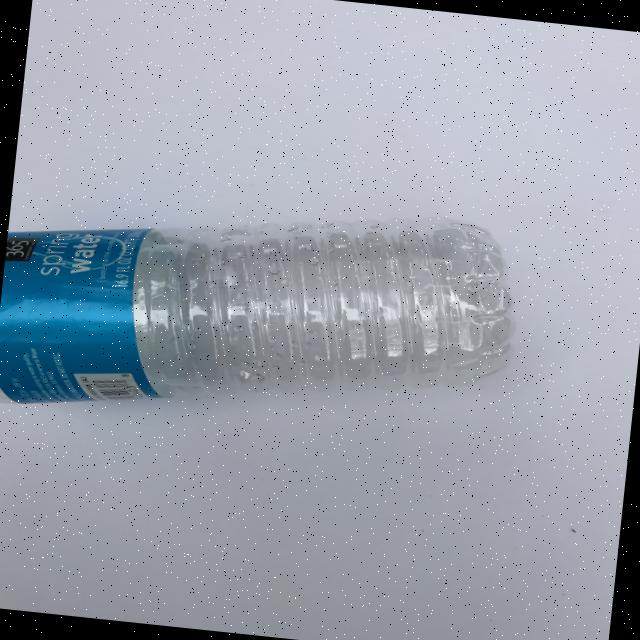plastic: (0, 170, 525, 454)
